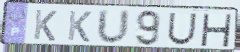9: (134, 9, 162, 48)
H: (199, 12, 234, 48)
K: (66, 9, 93, 44), (32, 8, 59, 43)
U: (96, 8, 132, 46), (166, 12, 199, 47)
